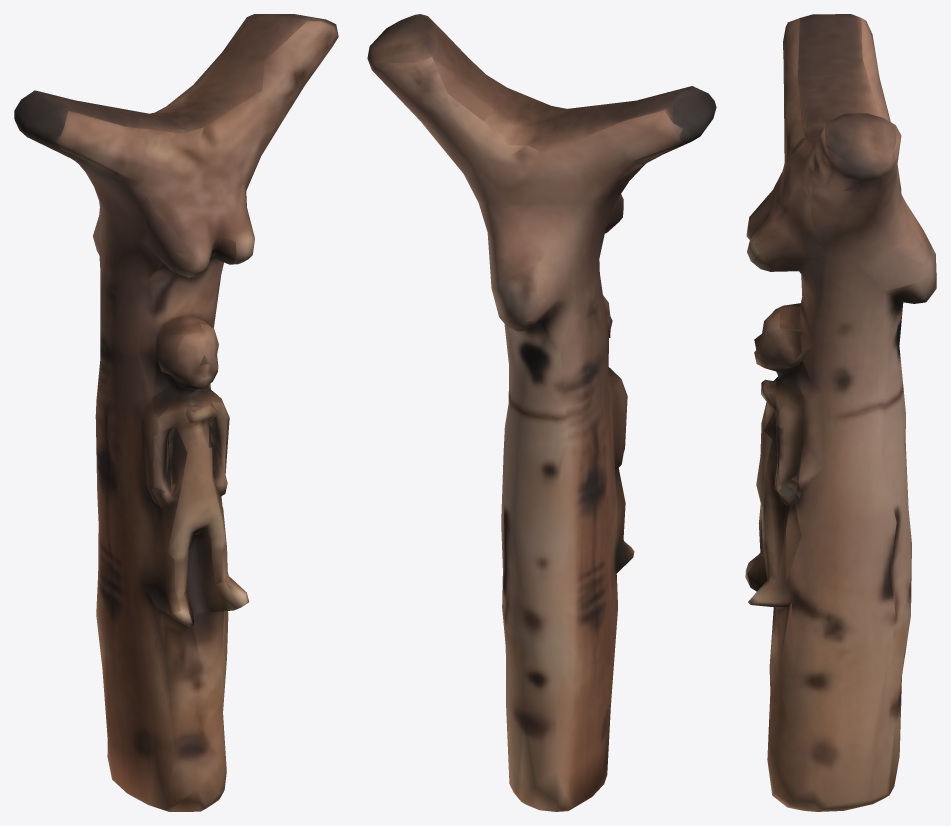
The model's file is pilier_8.glb.
3 renders of one model, left to right at view 1: azimuth 30°, elevation 25°; view 2: azimuth 150°, elevation 25°; view 3: azimuth 270°, elevation 25°, orthographic.
Visible parts, largest first — view 1: Mesh_0.002; view 2: Mesh_0.002; view 3: Mesh_0.002.
Boxes of the visible parts, left/top/right/bottom form: Mesh_0.002: left=14, top=14, right=338, bottom=811; Mesh_0.002: left=367, top=14, right=716, bottom=811; Mesh_0.002: left=745, top=14, right=936, bottom=811.
Size of the model in its own units: 0.5022 by 1.1 by 0.2581.
1 material, 1 textured.
